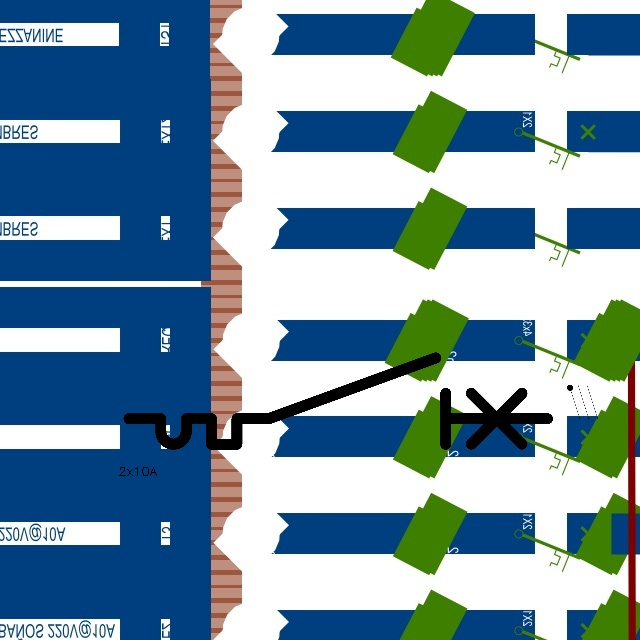interruptor_termomagnetico: (118, 347, 558, 455)
